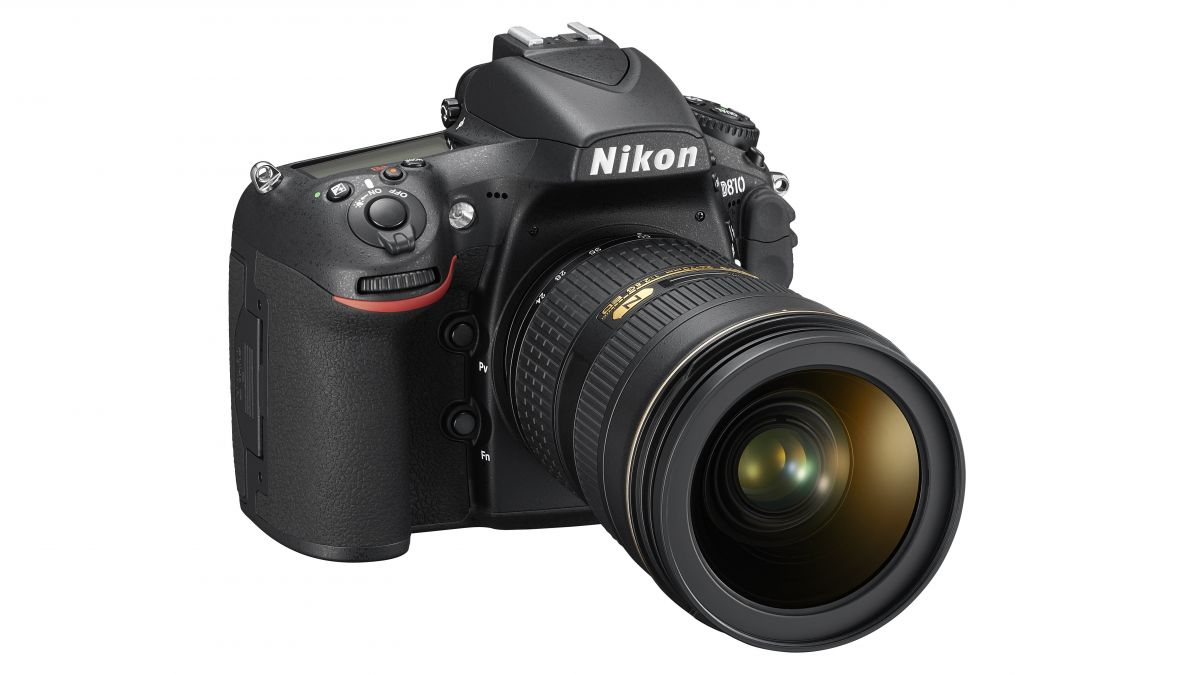kamera: (201, 12, 980, 675)
